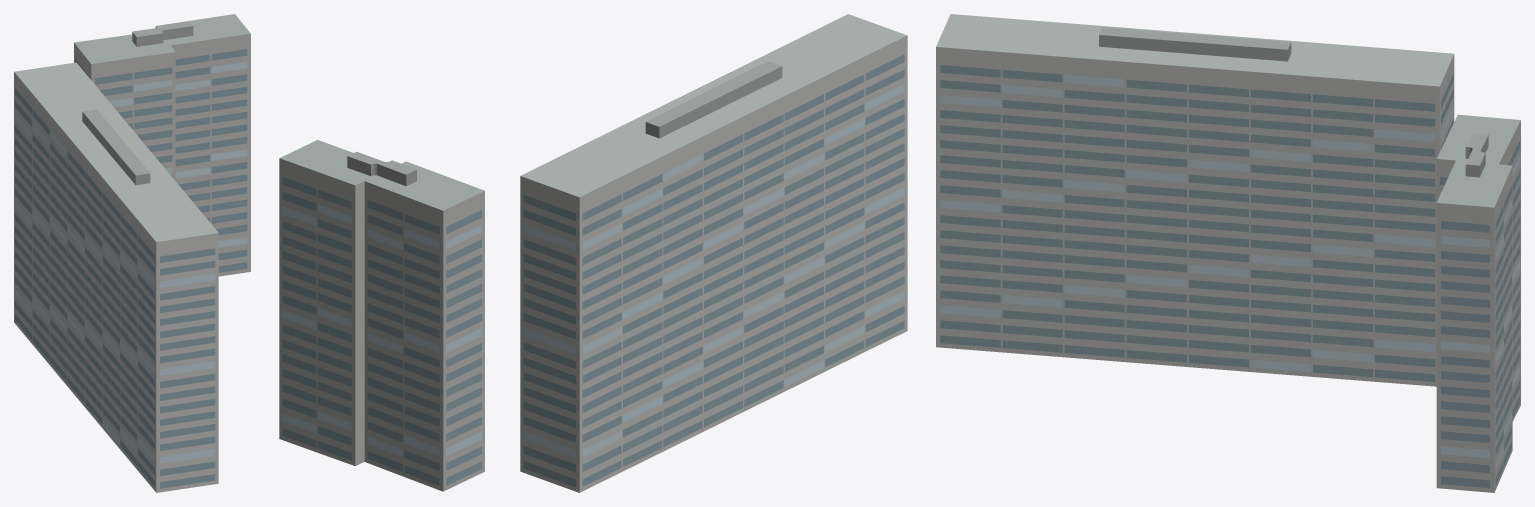
File: apt-a15805109.glb
3 views of the same model, side by side, from view 1: azimuth 30°, elevation 25°; view 2: azimuth 150°, elevation 25°; view 3: azimuth 270°, elevation 25° (orthographic). The views are drawn at different scales.
Visible parts, largest first — view 1: apt-a15805109; view 2: apt-a15805109; view 3: apt-a15805109.
Part boxes in pixels (x1,y1,x2,y2): apt-a15805109: (14, 14, 250, 492); apt-a15805109: (279, 14, 907, 492); apt-a15805109: (936, 14, 1520, 492).
Bounding box in the file's own units: 77.81 × 63.4 × 108.
